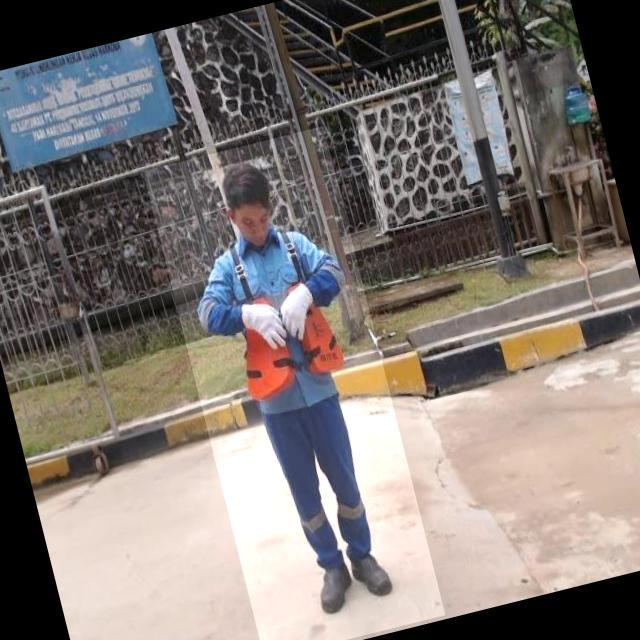Gloves: (241, 282, 313, 351)
Person: (183, 149, 415, 630)
Safety Boot: (346, 540, 405, 607), (310, 553, 362, 619)
Safety Vest: (197, 221, 358, 412)
no-helmet: (215, 159, 273, 192)
